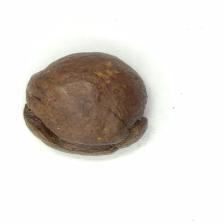NG: (22, 85, 149, 156)
